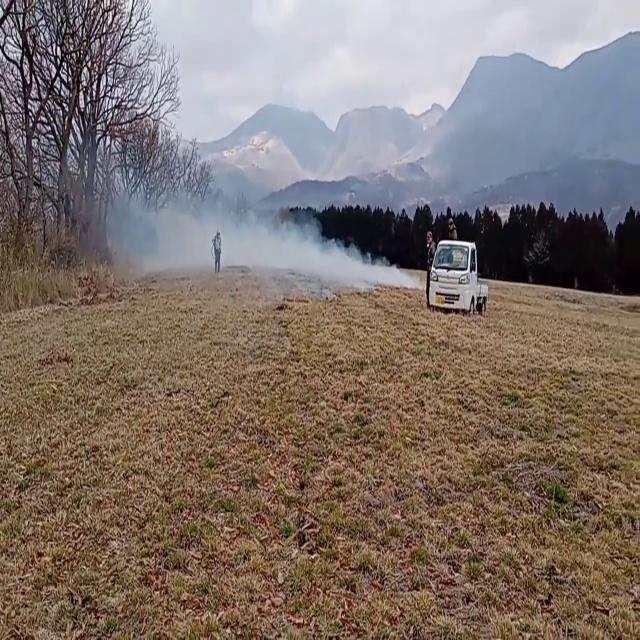Smoke: (102, 146, 386, 293)
